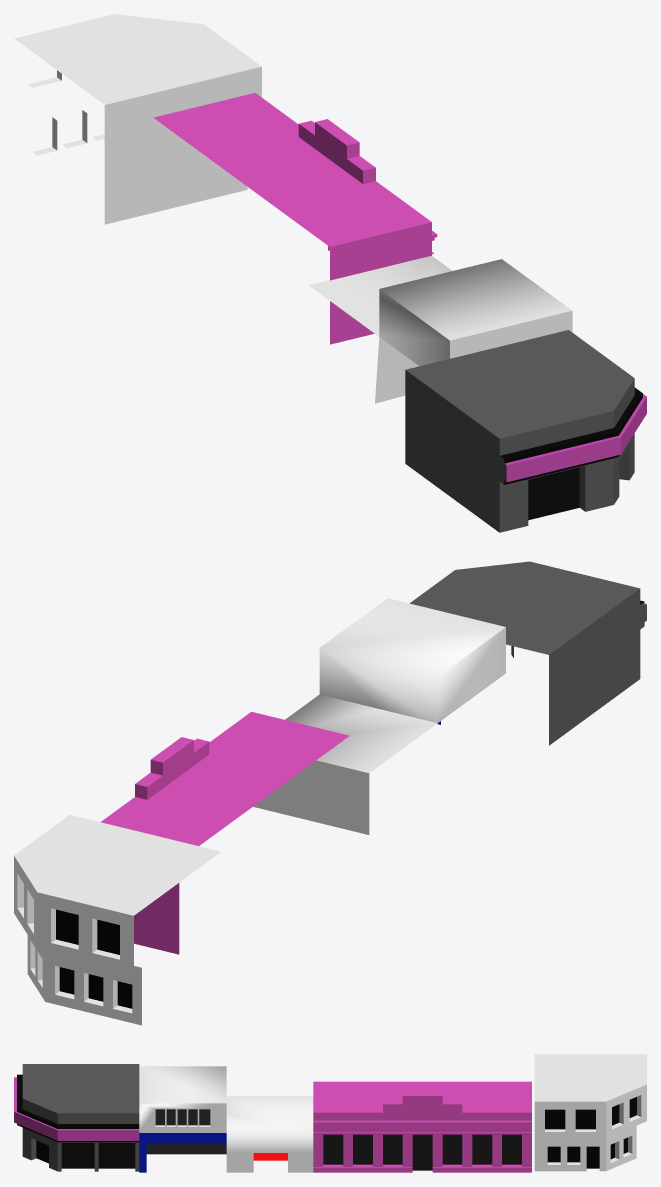
Rendered from Cuadra-2-Derecha.glb.
3 views of the same model, one above another, from view 1: azimuth 30°, elevation 25°; view 2: azimuth 150°, elevation 25°; view 3: azimuth 270°, elevation 25° (orthographic). The views are drawn at different scales.
Visible parts, largest first — view 1: Plane4, Plane, Plane2, Plane3; view 2: Plane3, Plane, Plane4, Plane2; view 3: Plane2, Plane3, Plane4, Plane.
Part boxes in pixels (x1,y1,x2,y2): Plane4: (405,330,646,532); Plane: (14,14,261,224); Plane2: (153,93,437,344); Plane3: (309,255,572,403); Plane3: (253,598,505,834); Plane: (14,815,220,1025); Plane4: (409,561,646,745); Plane2: (100,711,349,954); Plane2: (313,1081,531,1172); Plane3: (139,1066,313,1172); Plane4: (14,1064,139,1171); Plane: (534,1054,646,1171).
Size of the model in its own units: 17.32 by 11.82 by 86.89.
